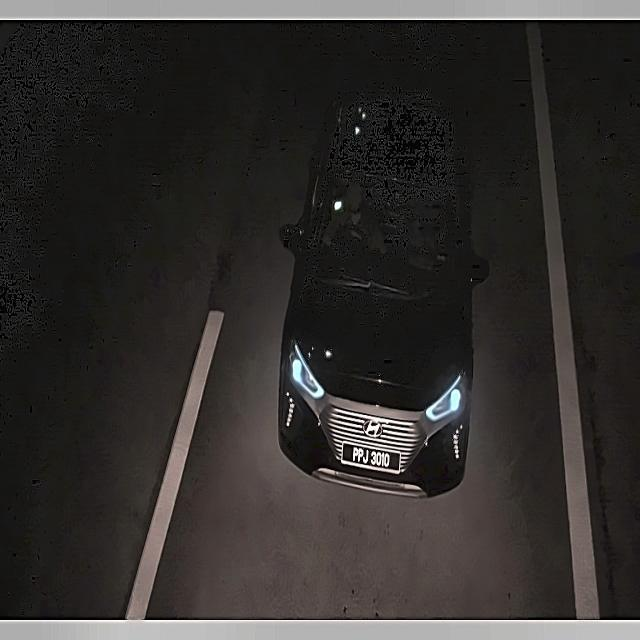car: (341, 436, 403, 482)
